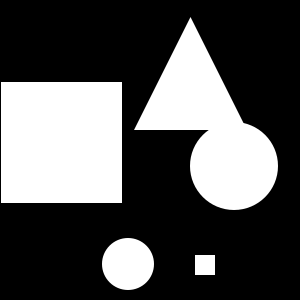circle: (1, 82, 122, 203), (195, 255, 215, 275)
rectangle: (190, 122, 278, 210), (102, 238, 154, 290)
triangle: (134, 17, 247, 130)
